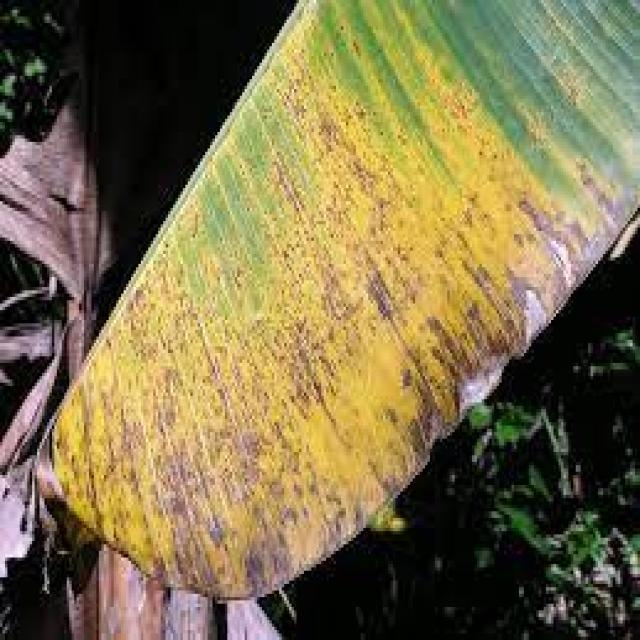Early_rust: (22, 0, 553, 627)
